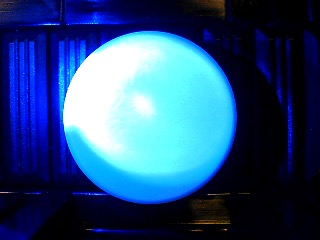BLANK: (63, 31, 237, 204)
